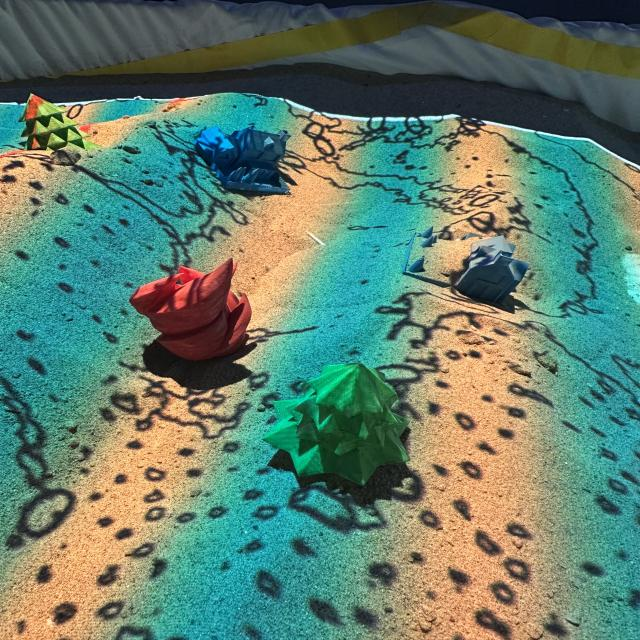fire: (127, 255, 256, 359)
house: (405, 223, 529, 308), (191, 122, 296, 198)
tree: (261, 360, 412, 488), (18, 94, 98, 158)
